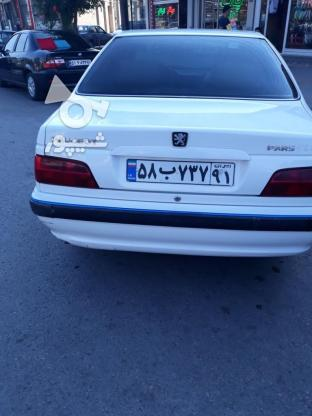car: (126, 158, 235, 188)
